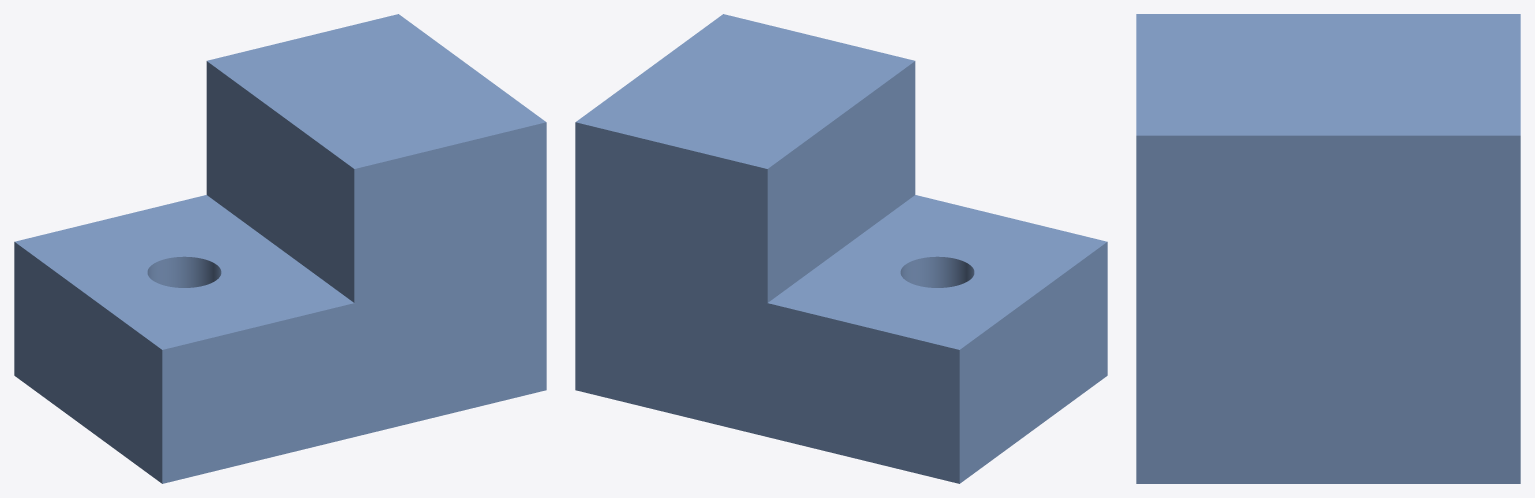
File: step_block.glb
3 renders of one model, left to right at view 1: azimuth 30°, elevation 25°; view 2: azimuth 150°, elevation 25°; view 3: azimuth 270°, elevation 25°, orthographic. The views are drawn at different scales.
Parts seen in each view (by area): view 1: step block; view 2: step block; view 3: step block.
Part boxes in pixels (box(x1,y1,x2,y2)): step block: box(14, 14, 546, 483); step block: box(575, 14, 1107, 483); step block: box(1136, 14, 1520, 483).
Size of the model in its own units: 60 by 40 by 40.
